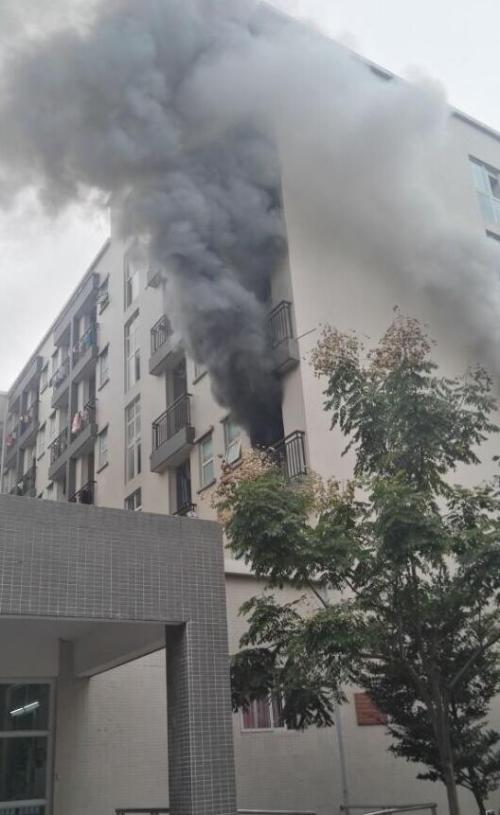smoke: (12, 11, 324, 451)
